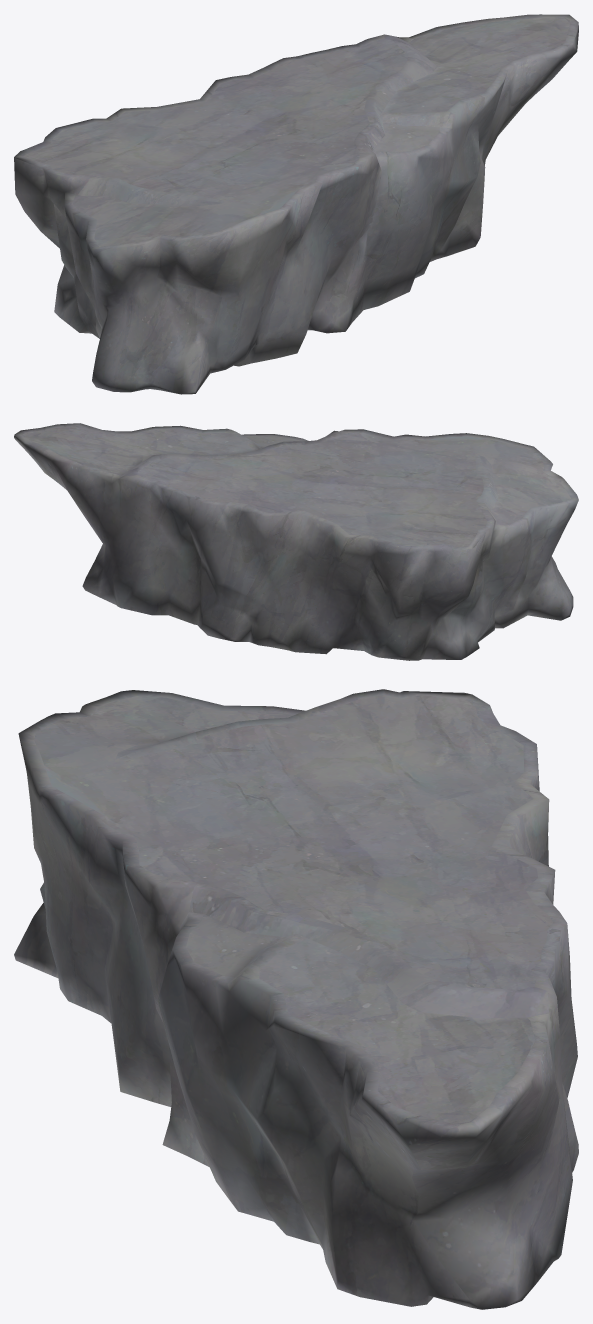
The model's file is Stages_MD_SDLStone04.fbx.
3 views of the same model, one above another, from view 1: azimuth 30°, elevation 25°; view 2: azimuth 150°, elevation 25°; view 3: azimuth 270°, elevation 25° (orthographic). The views are drawn at different scales.
Visible parts, largest first — view 1: Stages_MD_SDLStone04_Lod0; view 2: Stages_MD_SDLStone04_Lod0; view 3: Stages_MD_SDLStone04_Lod0.
Part boxes in pixels (x1=…): Stages_MD_SDLStone04_Lod0: x1=14, y1=14, x2=578, y2=394; Stages_MD_SDLStone04_Lod0: x1=14, y1=423, x2=578, y2=660; Stages_MD_SDLStone04_Lod0: x1=14, y1=689, x2=578, y2=1309.
Bounding box in the file's own units: 97.9 × 27.93 × 50.57.
Materials: 1 (1 with a texture image).
